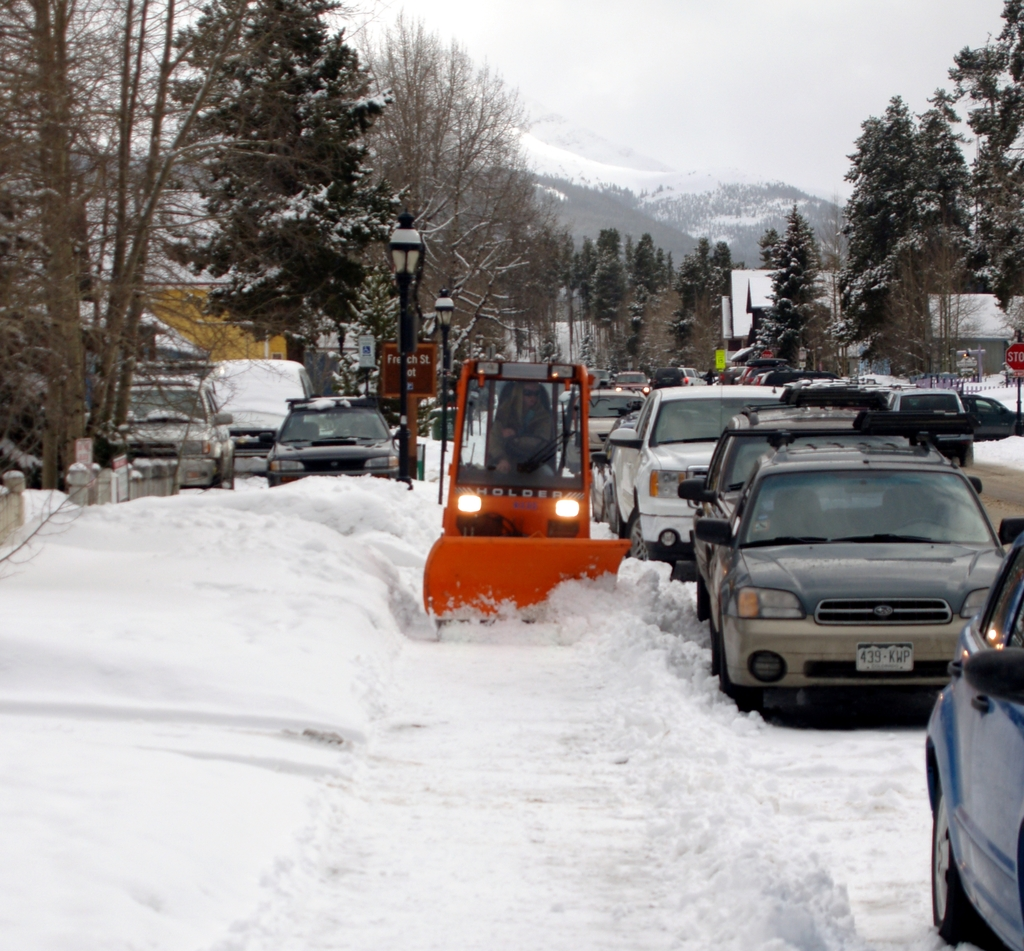Tree: (0, 0, 1024, 579)
